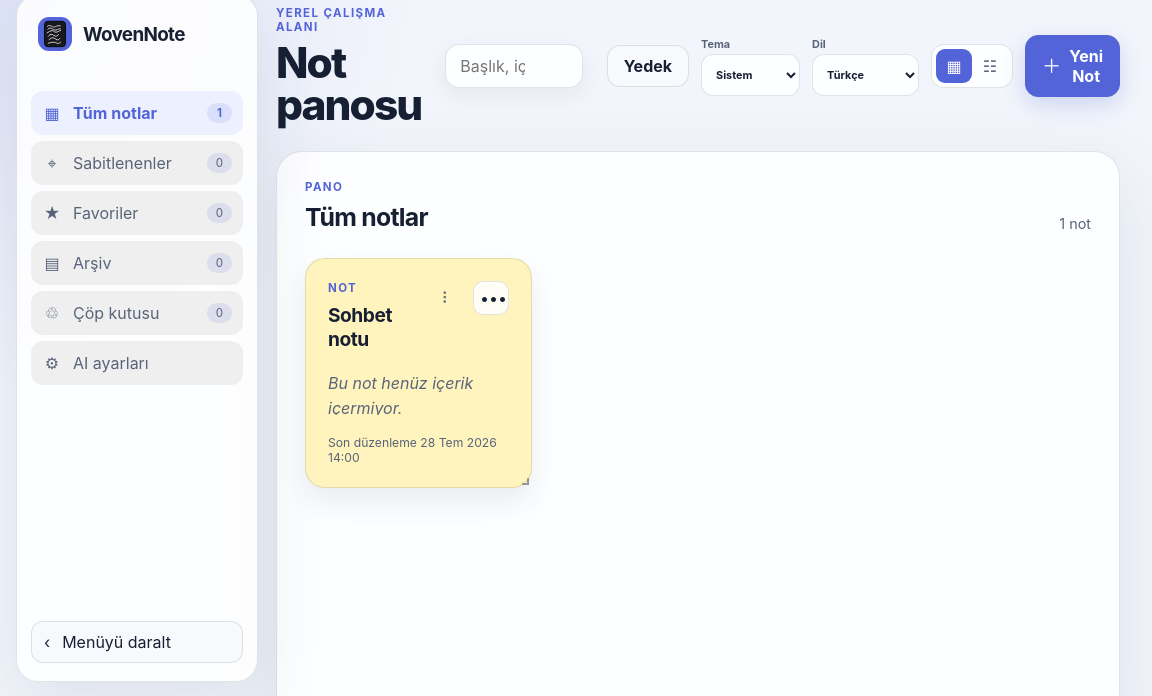
App note board › flushes the open note before sending a note-scoped AI message and supports cancellation
Expected: the heading "Sohbet notu" is shown, [328, 303, 392, 351]
Click the button named "Sohbet notu notunu aç" at (418, 373), box [306, 259, 531, 487]
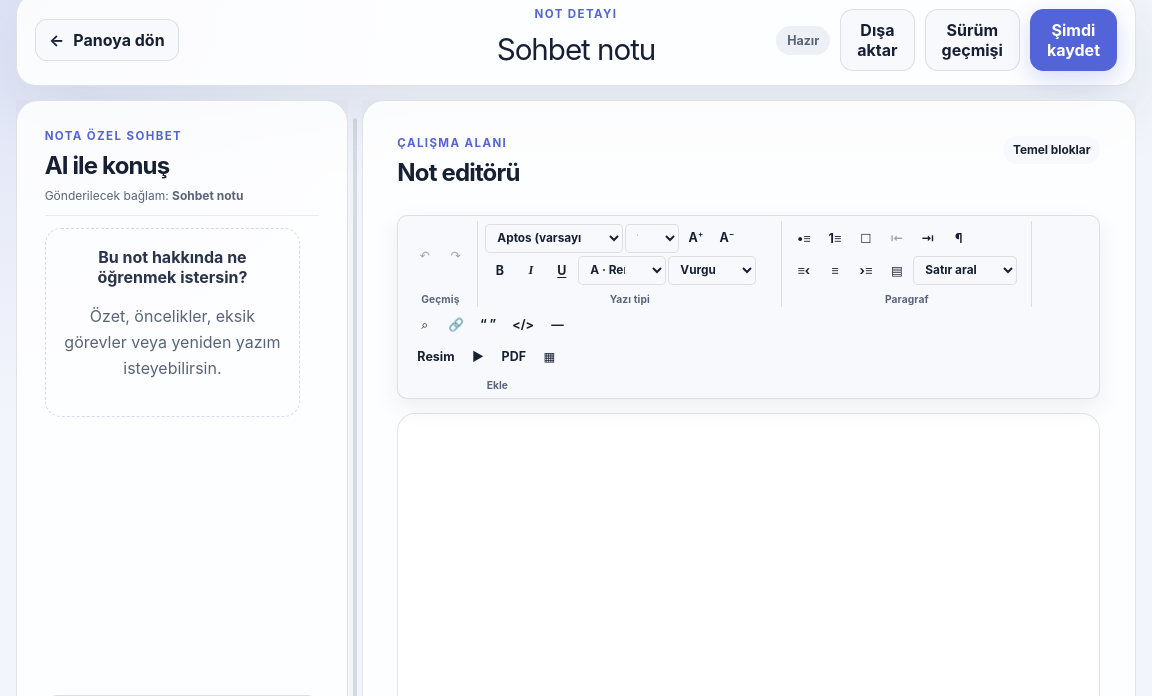
Result: the heading "AI ile konuş" is shown at [45, 151, 169, 180]
Replace the text in the field named "Not başlığı" below "Not detayı" with "Güncel sohbet notu" at (576, 49), box [316, 25, 836, 73]
(page scrolled)
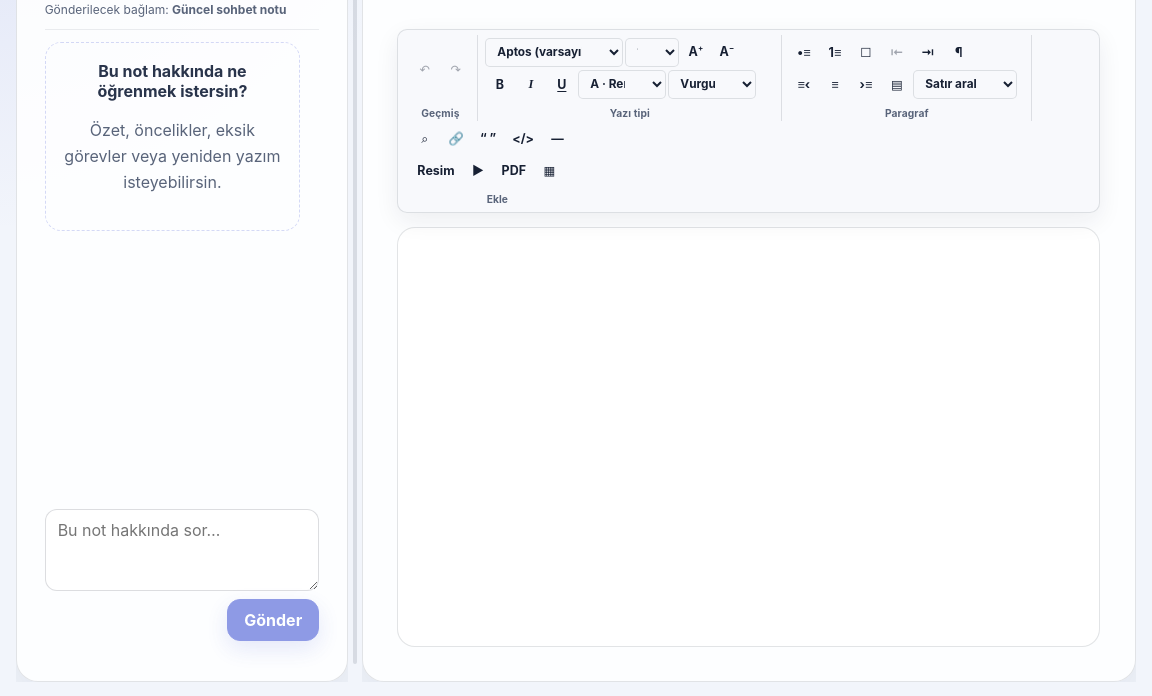
Type "Bu notu özetle." into the text box named "AI'a sor" at (182, 550), box [45, 510, 319, 592]
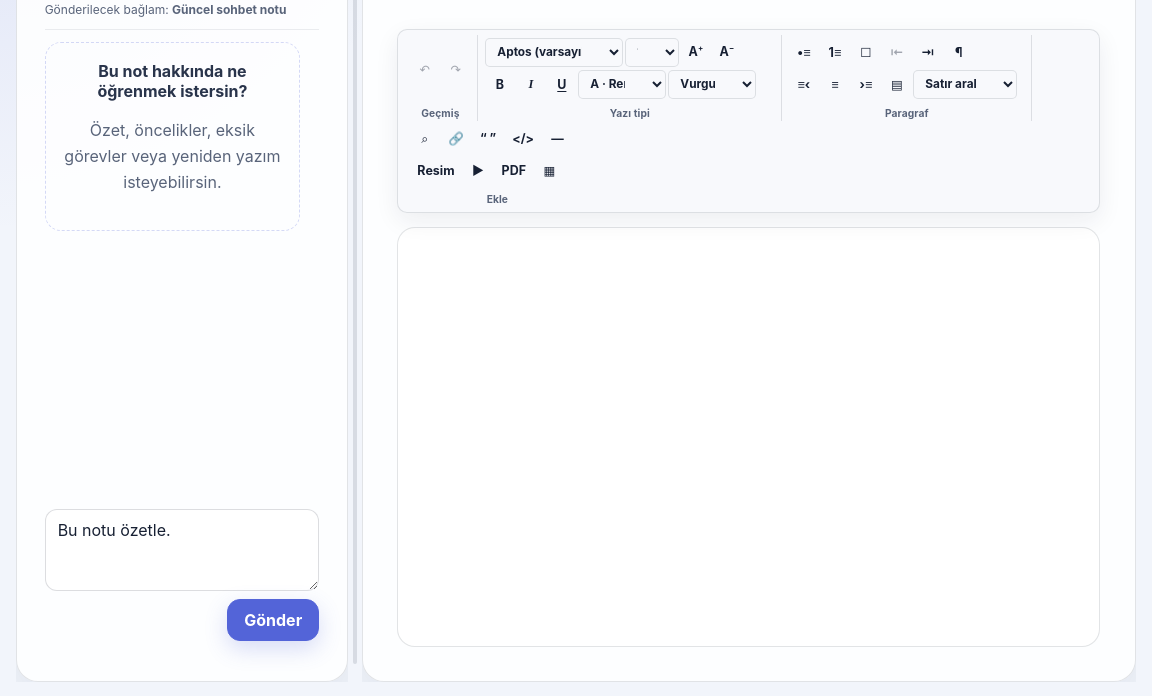
Click the button "Gönder" at (273, 620), box [227, 600, 319, 642]
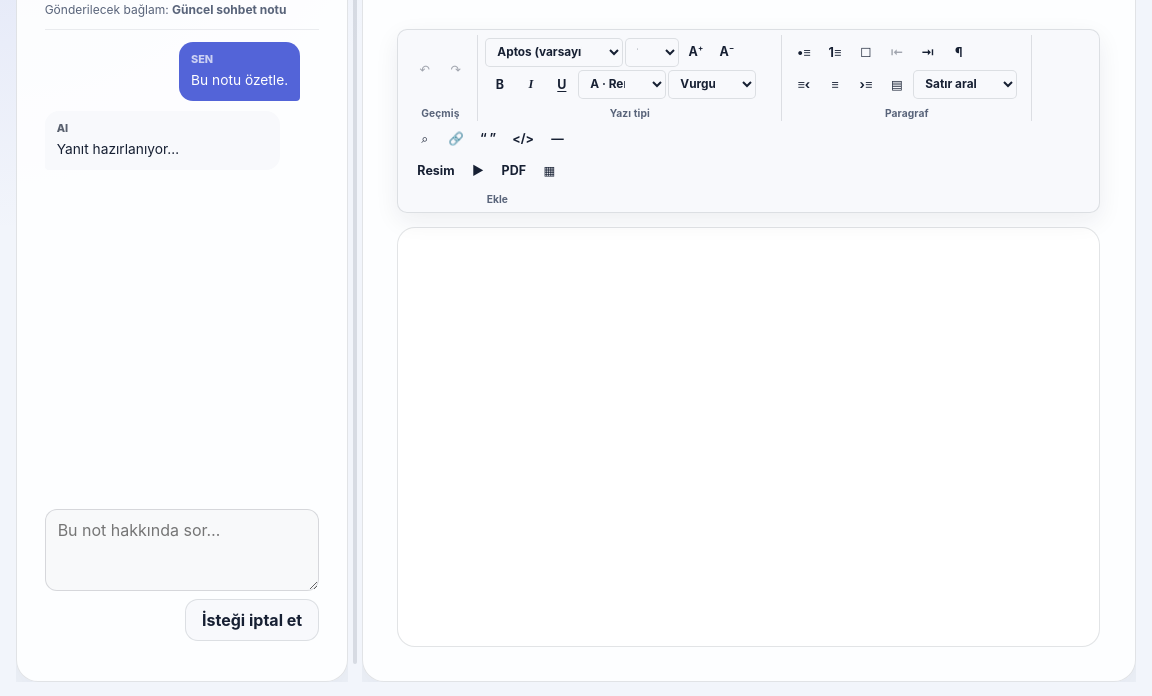
Result: the text "Yanıt hazırlanıyor…" is shown at [57, 141, 179, 157]
Click the button "İsteği iptal et" at (252, 620), box [185, 600, 319, 642]
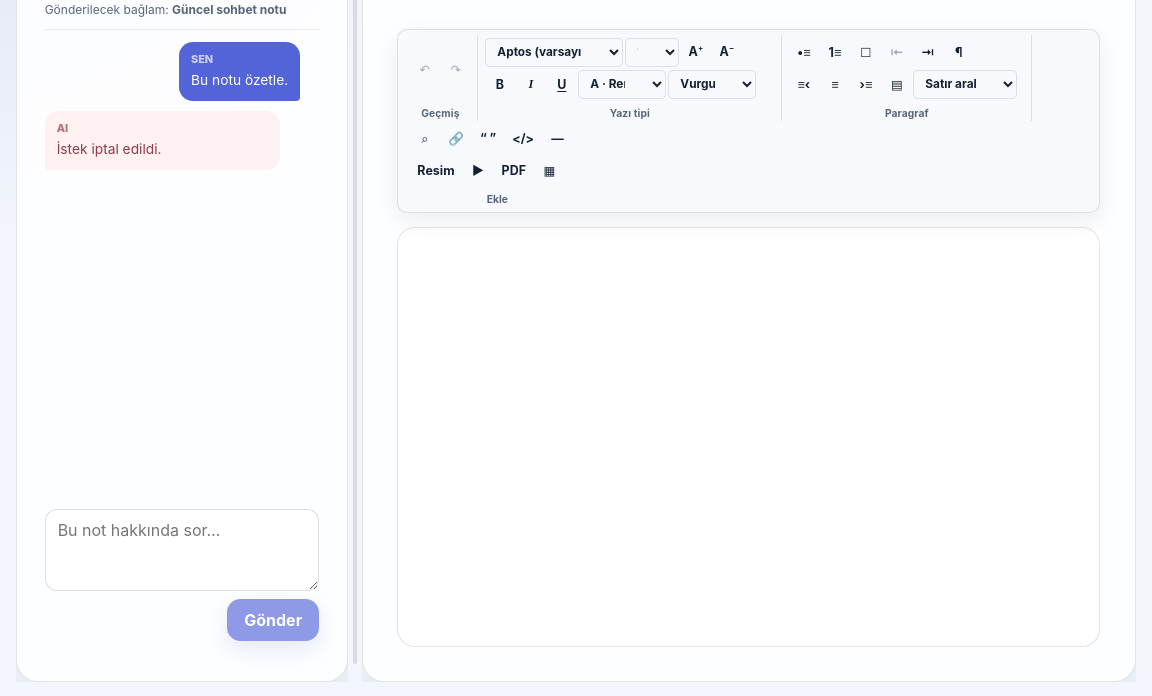
Result: the text "İstek iptal edildi." is shown at [57, 141, 161, 157]
